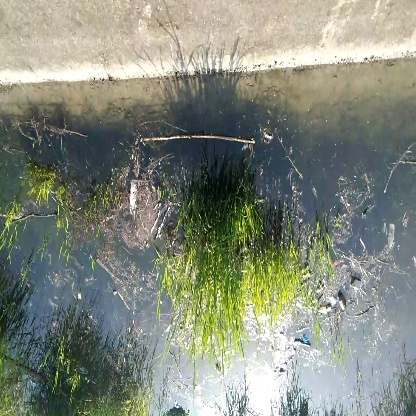branch: (140, 125, 263, 154)
